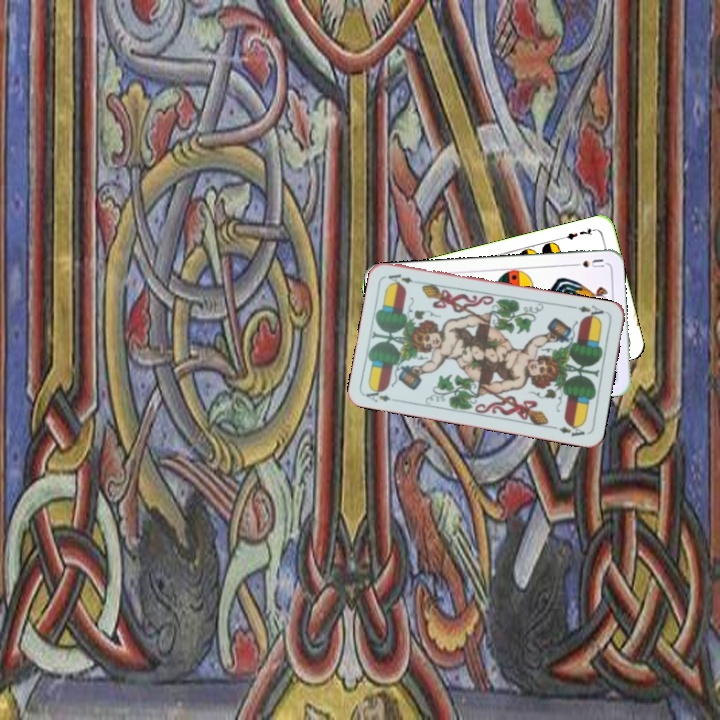E7: (558, 224, 598, 242)
EA: (569, 301, 609, 322), (362, 384, 393, 405)
SU: (567, 255, 607, 270)
